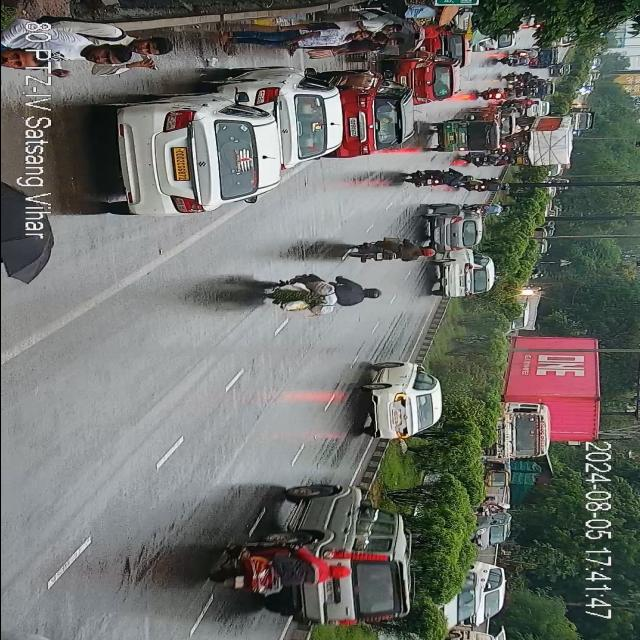2-wheelers: (222, 533, 346, 596), (261, 272, 383, 318), (350, 230, 434, 264), (462, 178, 513, 198), (412, 172, 466, 186), (462, 152, 506, 166), (478, 88, 521, 100), (466, 204, 508, 214), (499, 72, 537, 82), (496, 56, 533, 66), (528, 271, 544, 279)
auto: (435, 120, 495, 150), (482, 462, 510, 488), (528, 228, 548, 242)
car: (108, 91, 281, 214), (226, 72, 338, 164), (334, 76, 412, 160), (373, 364, 446, 442), (396, 52, 458, 104), (432, 252, 488, 306), (460, 566, 508, 624), (430, 209, 480, 250), (471, 512, 506, 547), (433, 30, 467, 64), (501, 304, 529, 332), (534, 78, 558, 99), (472, 109, 512, 121), (532, 49, 556, 66), (550, 62, 572, 78)
pedestrian: (46, 28, 172, 72), (232, 24, 376, 50)
truck: (290, 482, 418, 626), (488, 334, 602, 464), (515, 118, 576, 167), (568, 106, 594, 130)
